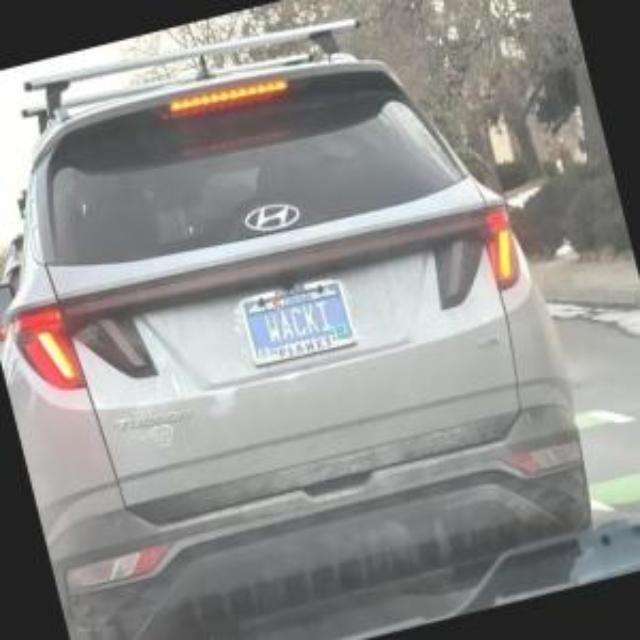License Plate: (237, 275, 359, 367)
